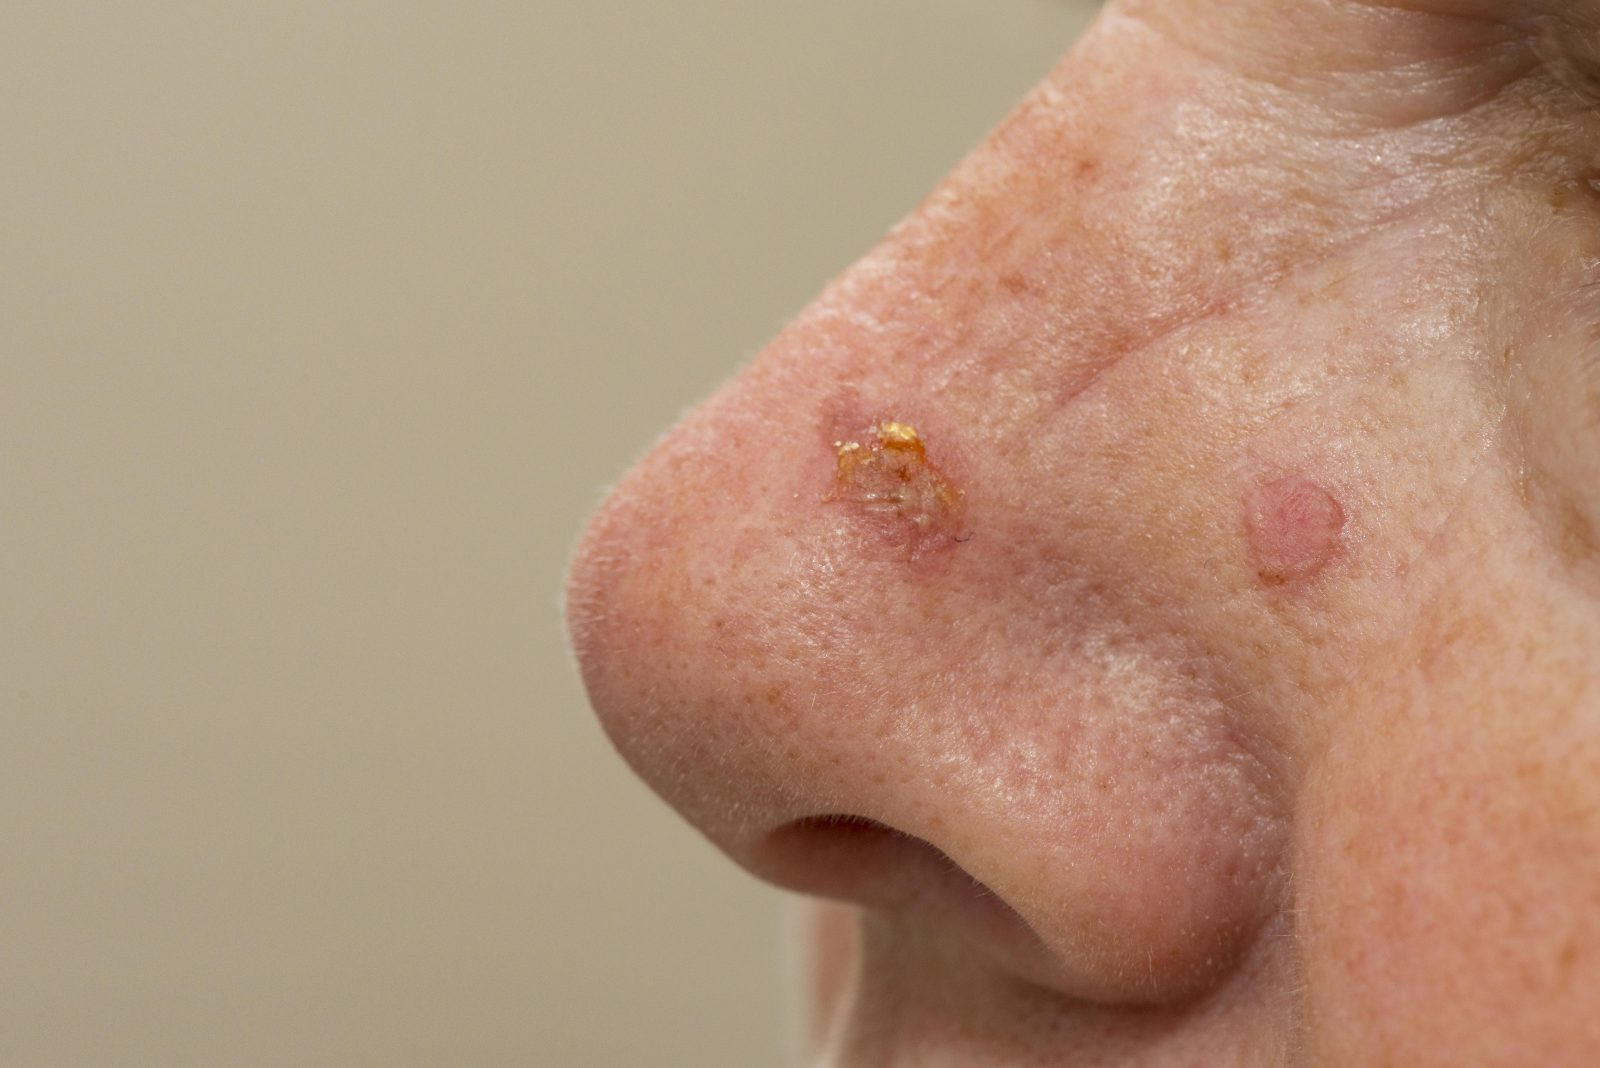Basa Cell Carcinoma: (784, 372, 1430, 681)
